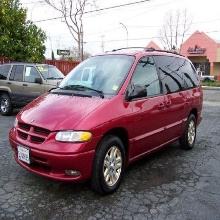no damage: (9, 49, 203, 190), (1, 60, 64, 113)
